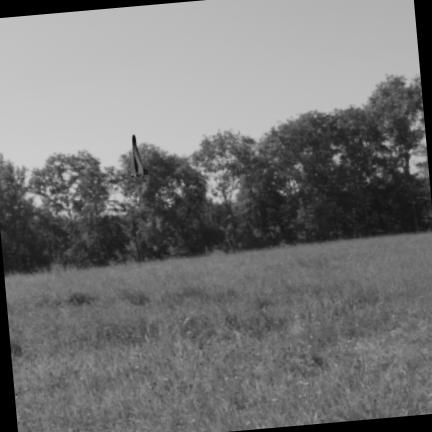Shahed: (130, 135, 148, 177)
